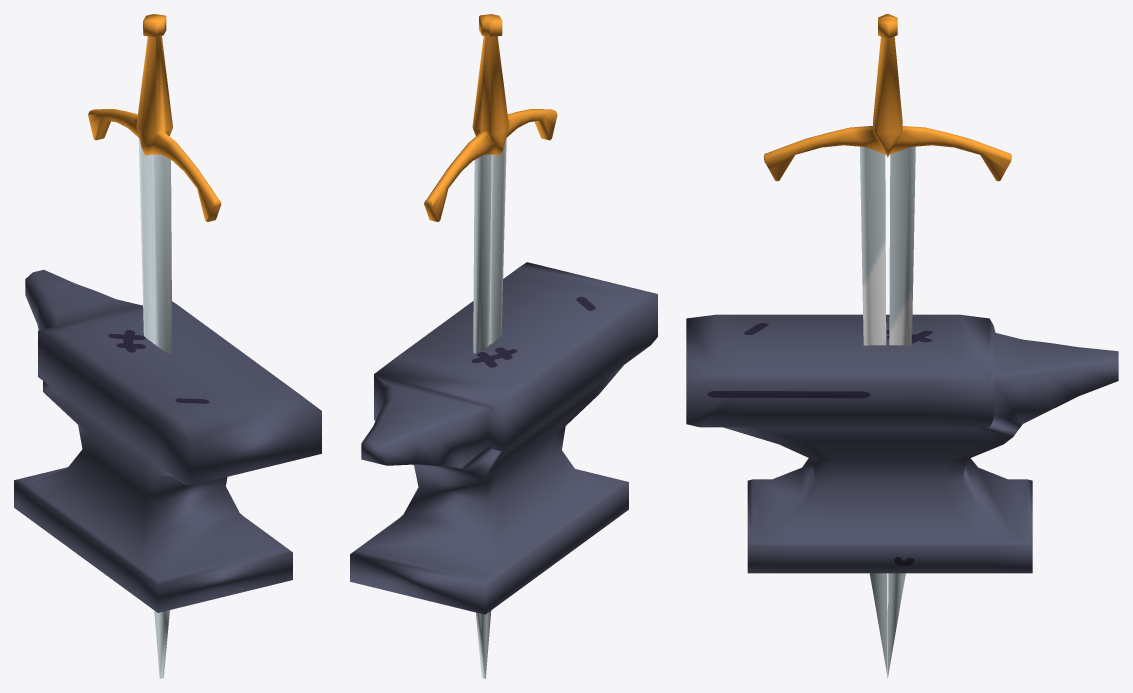
The model's file is SwordAndAnvil.glb.
The picture shows the model from 3 angles, left to right: view 1: azimuth 30°, elevation 25°; view 2: azimuth 150°, elevation 25°; view 3: azimuth 270°, elevation 25°; orthographic projection.
Parts seen in each view (by area): view 1: Anvil, Sword; view 2: Anvil, Sword; view 3: Anvil, Sword.
Part boxes in pixels (x1=…): Anvil: x1=14, y1=269, x2=321, y2=612; Sword: x1=88, y1=14, x2=221, y2=678; Anvil: x1=350, y1=262, x2=657, y2=614; Sword: x1=424, y1=14, x2=557, y2=678; Anvil: x1=686, y1=314, x2=1118, y2=573; Sword: x1=764, y1=14, x2=1011, y2=678.
Bounding box in the file's own units: 0.3611 × 1.69 × 1.01.
1 material, 1 textured.
